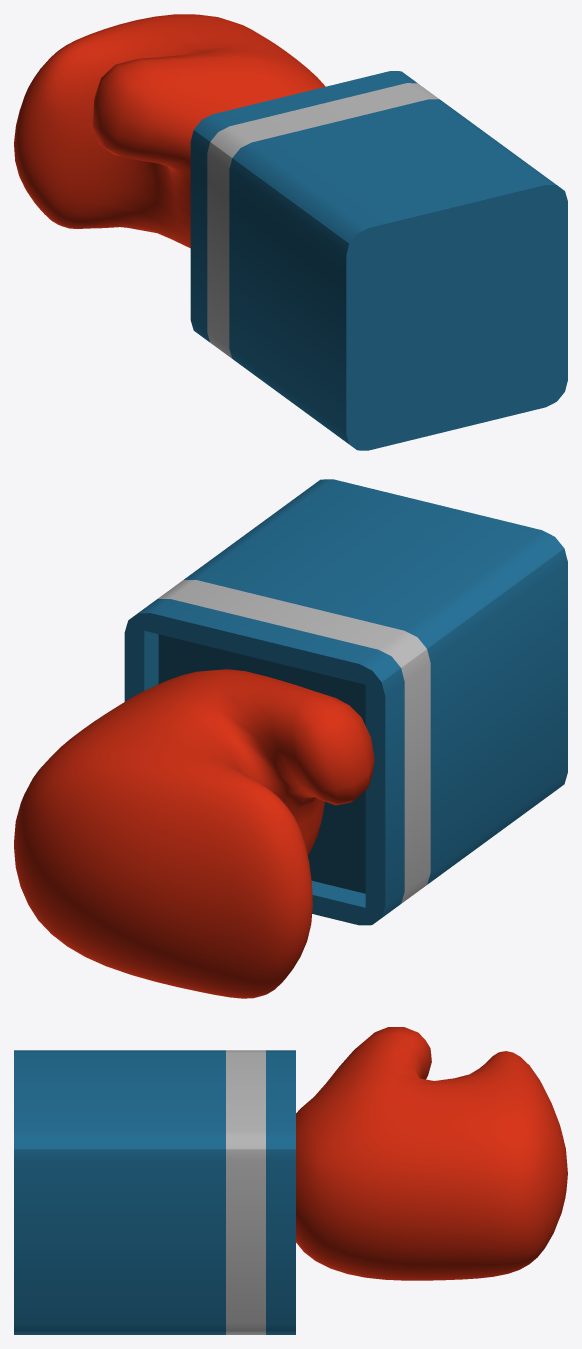
File: Boxing.fbx
3 renders of one model, top to bottom at view 1: azimuth 30°, elevation 25°; view 2: azimuth 150°, elevation 25°; view 3: azimuth 270°, elevation 25°, orthographic. The views are drawn at different scales.
Parts seen in each view (by area): view 1: Cube.010, Cube.011; view 2: Cube.010, Cube.011; view 3: Cube.010, Cube.011.
Part boxes in pixels (box(x1,y1,x2,y2)): Cube.010: box(190, 71, 567, 450); Cube.011: box(14, 14, 325, 248); Cube.010: box(124, 479, 567, 925); Cube.011: box(14, 669, 374, 998); Cube.010: box(14, 1050, 295, 1334); Cube.011: box(296, 1027, 567, 1280).
Size of the model in its own units: 1.58 by 3.02 by 1.3.
